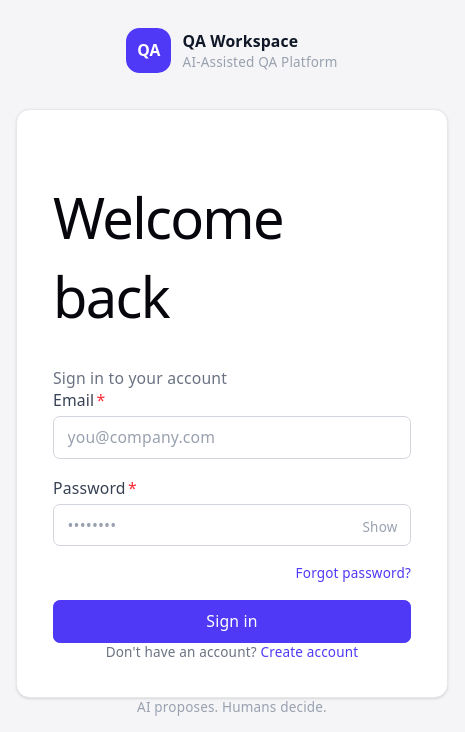
Test: SignInForm › shows a generic banner on an unexpected server error, without leaking details
Type "alice@example.com" into the field labelled "Email*" at x=232, y=438, box [53, 416, 411, 459]
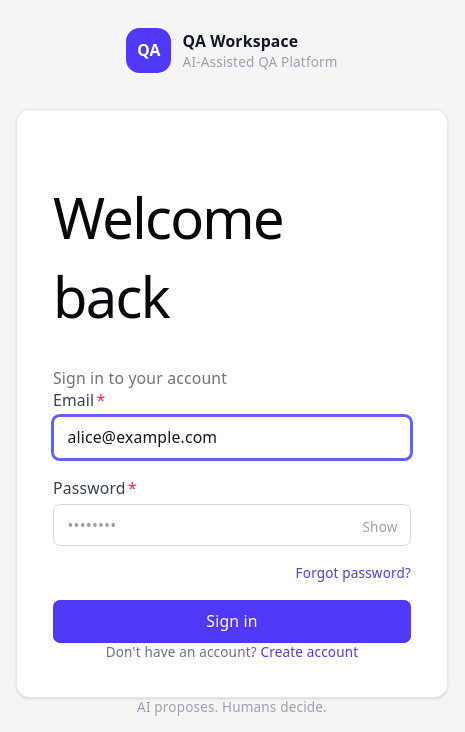
Type "a sufficiently long password" into the password field labelled "Password*" at x=232, y=525, box [53, 504, 411, 546]
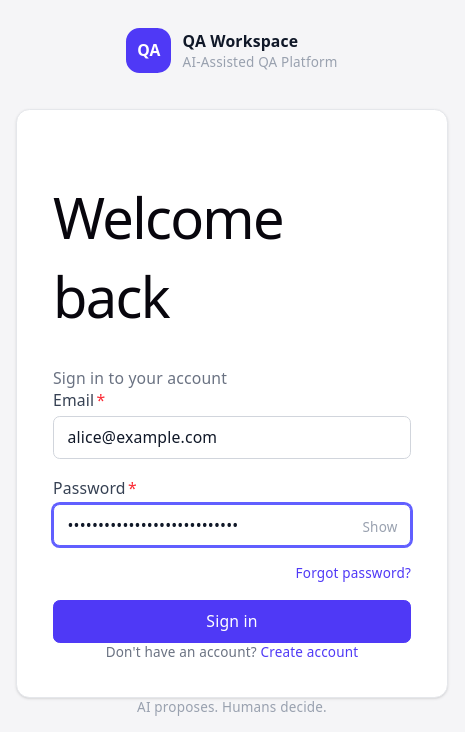
Click the button "Sign in" at x=232, y=622, box [53, 600, 411, 643]
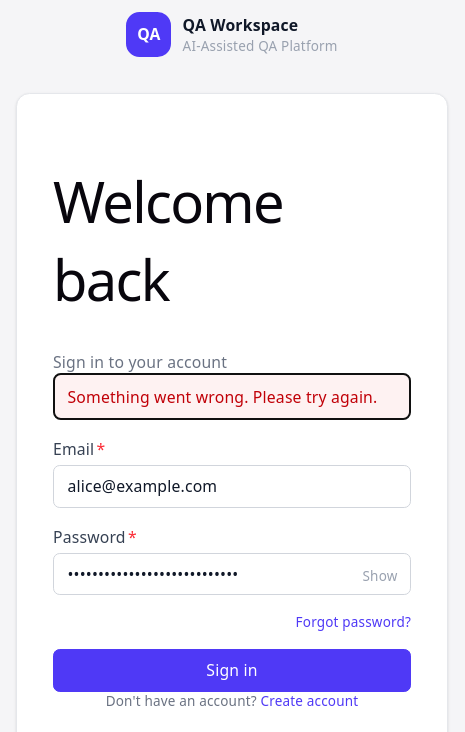
Expected: the message shows "Something went wrong", [68, 386, 378, 408]
